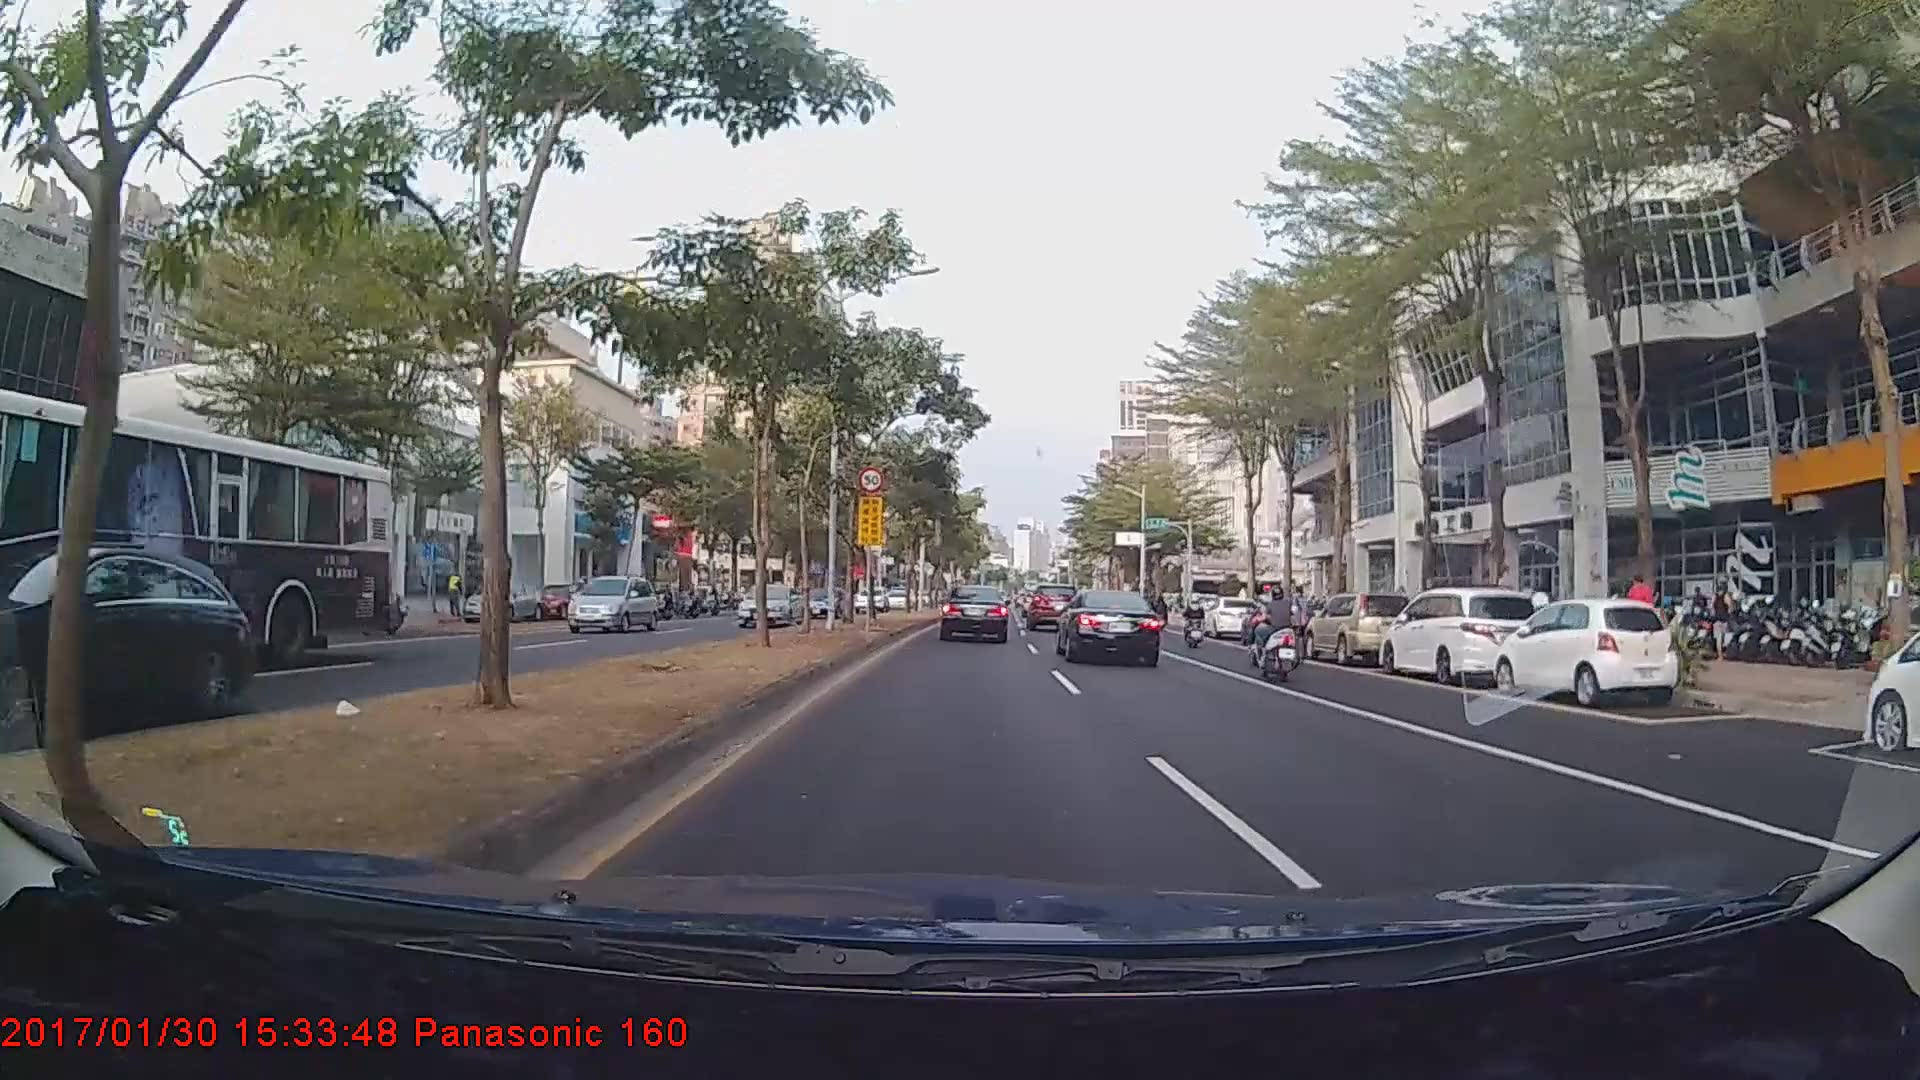rider: (1245, 582, 1315, 679), (1178, 590, 1210, 646)
vehicle: (0, 385, 400, 681), (0, 545, 252, 737), (1489, 596, 1679, 704), (1380, 586, 1542, 687), (1854, 583, 1917, 758), (1056, 585, 1164, 668), (1304, 591, 1415, 666), (561, 576, 657, 633), (938, 582, 1010, 643), (461, 578, 540, 623), (735, 582, 801, 627), (1203, 594, 1259, 640), (1026, 585, 1078, 631), (533, 582, 587, 620), (801, 584, 847, 617), (853, 586, 888, 612)
